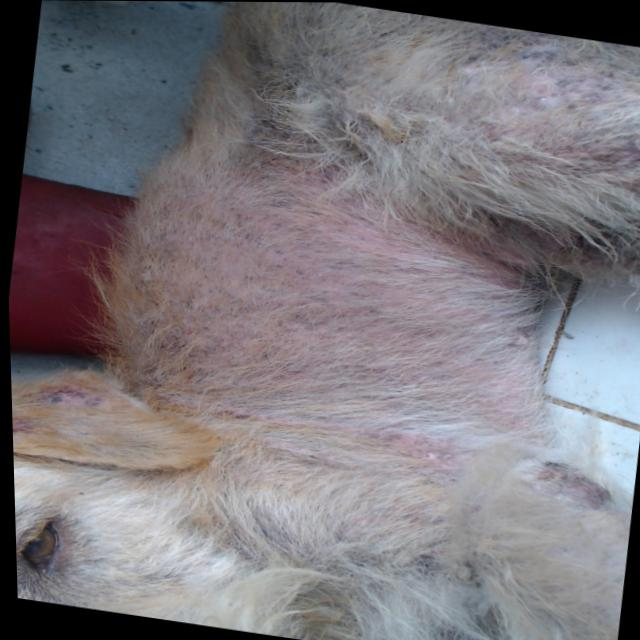demodicosis: (178, 173, 417, 407), (482, 51, 630, 181), (36, 375, 127, 437), (10, 414, 38, 446)
